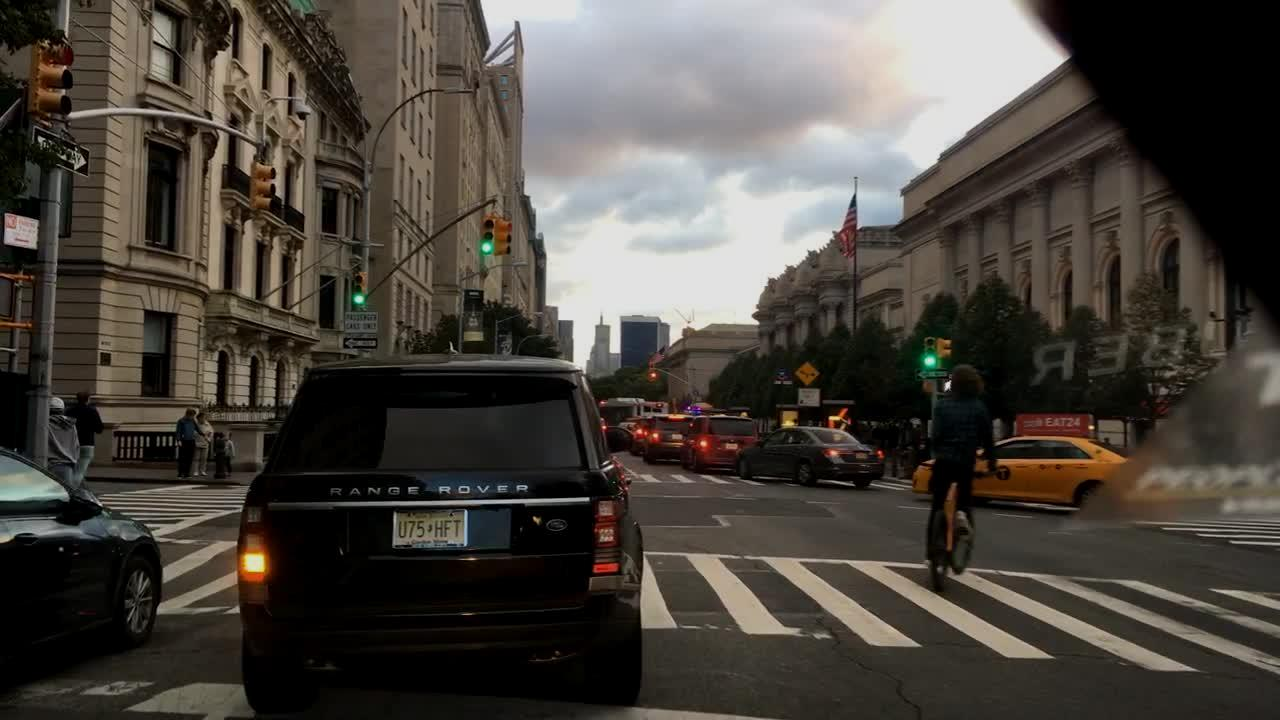range rover: (321, 478, 538, 503)
